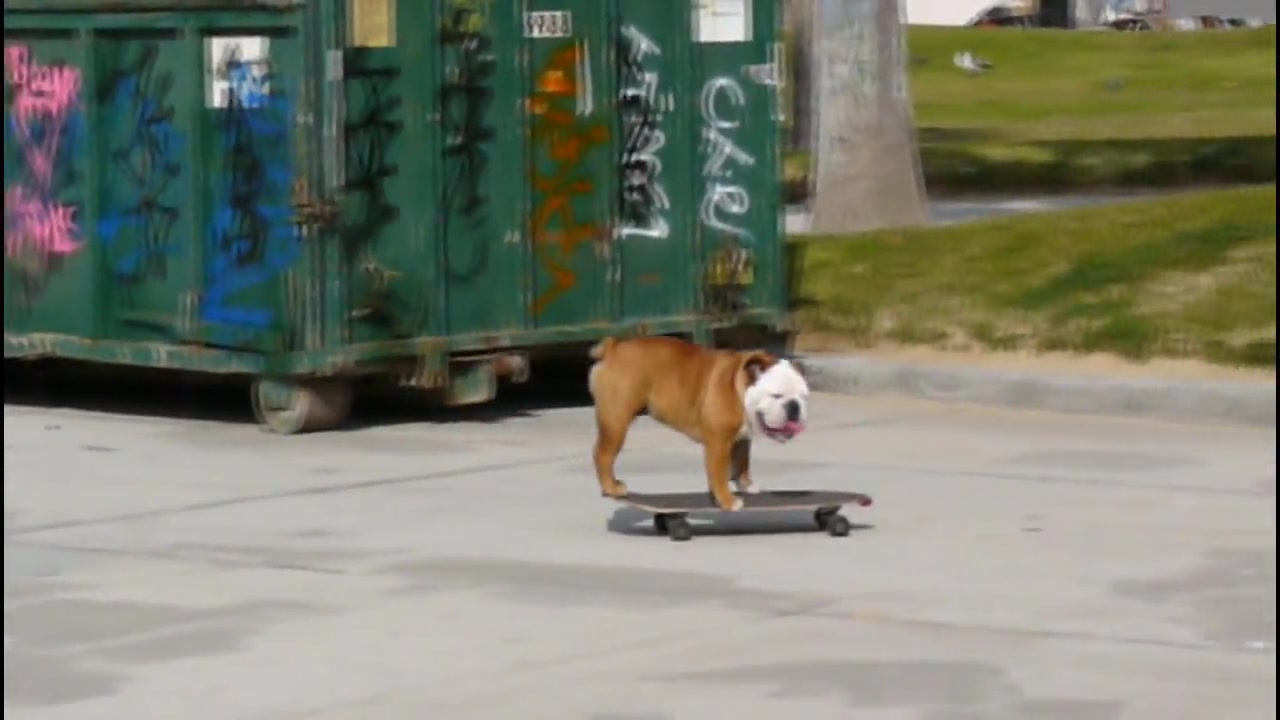dog: (585, 335, 815, 512)
